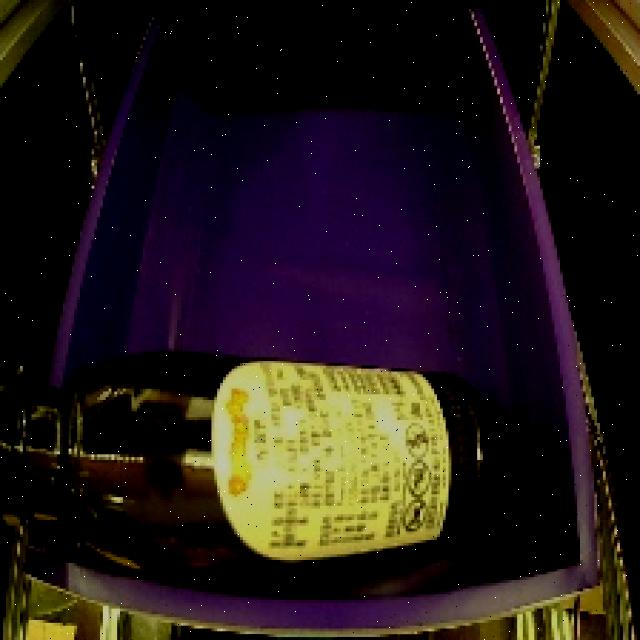plastic: (0, 306, 503, 597)
